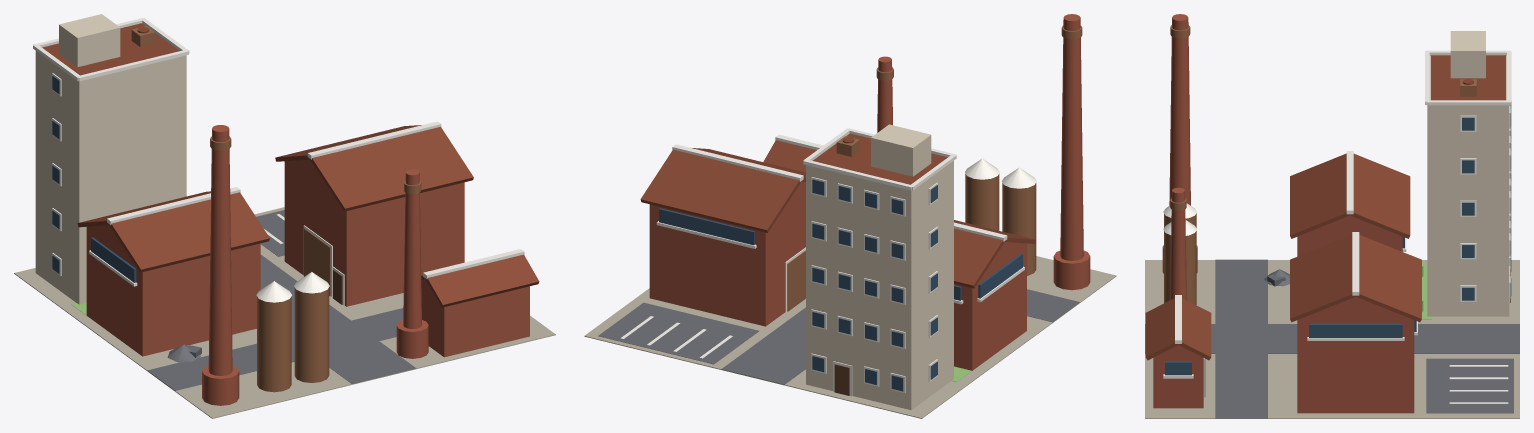
3 views of the same model, side by side, from view 1: azimuth 30°, elevation 25°; view 2: azimuth 150°, elevation 25°; view 3: azimuth 270°, elevation 25° (orthographic). The views are drawn at different scales.
Visible parts, largest first — view 1: office, roof (×6), hall_east, hall_west, yard, road (×2), smoke_stack (×2), silo (×2), workshop, plant_room, ridge (×3), stack_base (×2) (+6 smaller); view 2: office, roof (×4), hall_east, yard, smoke_stack (×2), hall_west, car_park, road (×2), silo (×2), plant_room, window_band (×2), stack_base (+4 smaller); view 3: roof (×7), office, road (×2), yard, hall_east, smoke_stack (×2), car_park, workshop, gable (×2), plant_room, window_band (×2), silo (+3 smaller).
Boxes of the visible parts, x1,y1,x2,y2 form: office: (35,51,186,304); roof (×6): (42,23,539,307); hall_east: (284,161,464,306); hall_west: (86,226,260,356); yard: (14,207,555,418); road (×2): (147,254,415,390); smoke_stack (×2): (208,125,421,375); silo (×2): (257,287,329,392); workshop: (421,285,529,357); plant_room: (59,14,120,67); ridge (×3): (107,121,524,278); stack_base (×2): (202,320,428,405); office: (806,161,953,410); roof (×4): (640,133,1005,288); hall_east: (649,198,805,326); yard: (584,256,1116,418); smoke_stack (×2): (877,14,1083,260); hall_west: (954,243,1026,370); car_park: (598,302,758,364); road (×2): (721,289,1079,384); silo (×2): (965,174,1036,275); plant_room: (871,124,931,176); window_band (×2): (659,208,1022,298); stack_base: (1053,250,1090,290); roof (×7): (1145,55,1505,360); office: (1427,56,1509,316); road (×2): (1145,259,1519,418); yard: (1145,260,1519,418); hall_east: (1297,317,1414,413); smoke_stack (×2): (1169,14,1190,300); car_park: (1426,358,1513,413); workshop: (1153,355,1203,408); gable (×2): (1304,215,1407,317); plant_room: (1450,31,1485,78); window_band (×2): (1165,324,1402,375); silo: (1164,231,1196,304).
Bounding box in the file's own units: 32 × 24.07 × 32.
